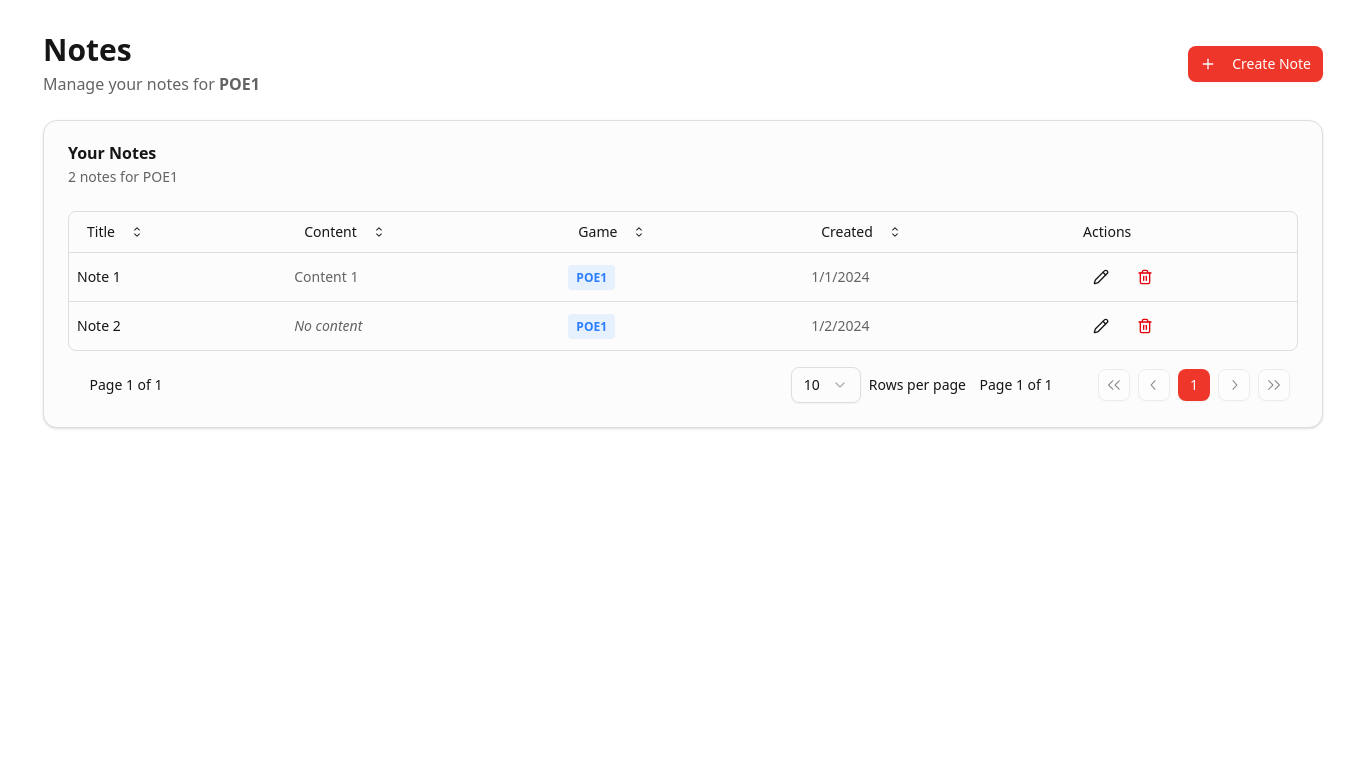
Scenario: Notes › create note › should open form dialog when Create Note button is clicked
The image size is (1366, 768).
Click the button "Create Note" at (1256, 64), box [1188, 46, 1323, 82]
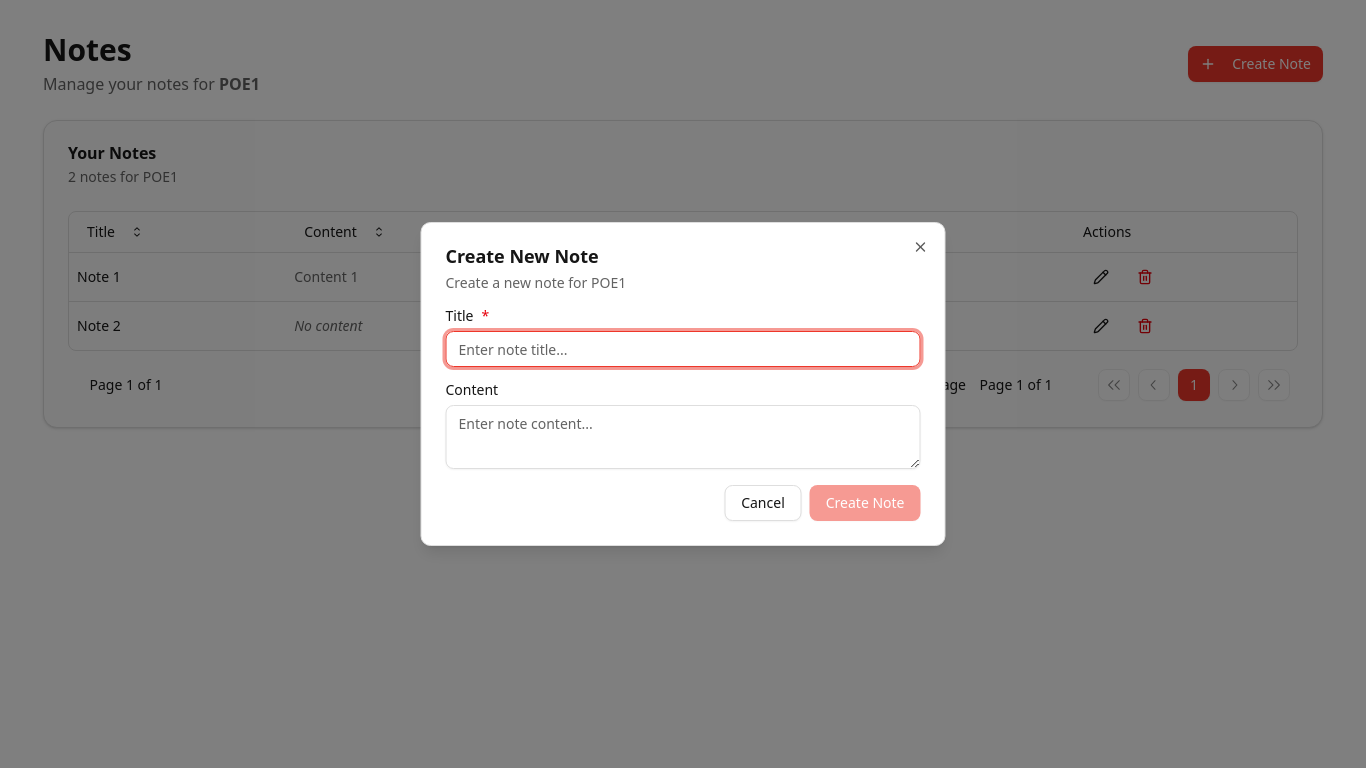
Check: the heading "Create New Note" is shown, box [446, 244, 599, 268]
